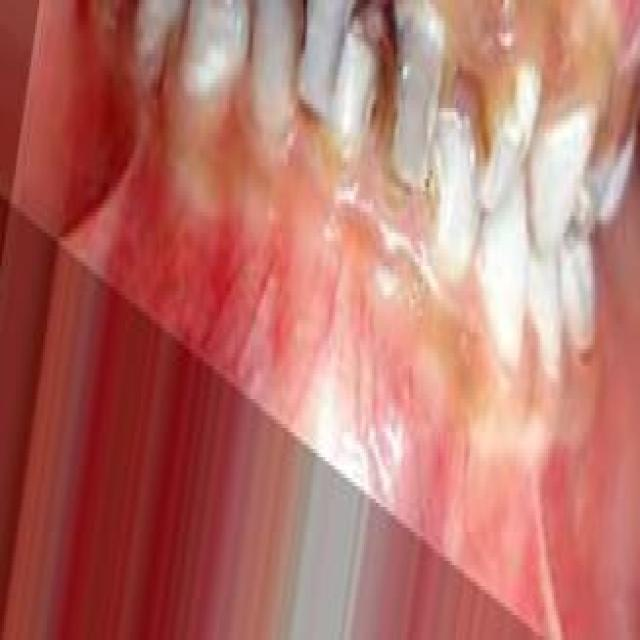caries: (470, 49, 540, 227), (385, 2, 444, 198), (294, 0, 378, 135)
